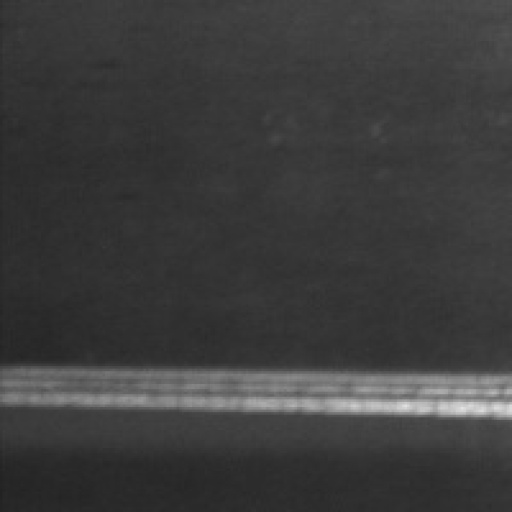scratches: (0, 347, 512, 434)
